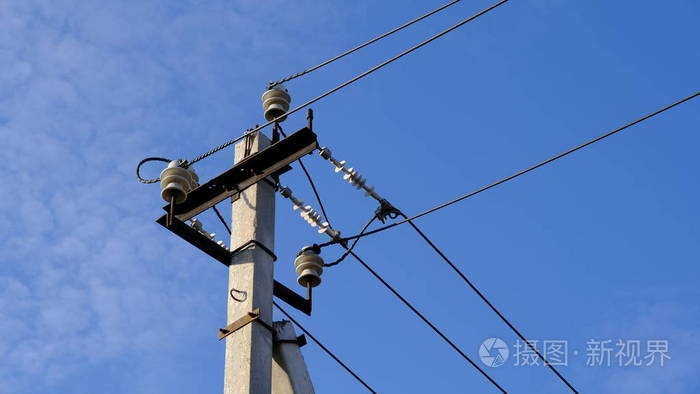insulator: (291, 196, 333, 236), (336, 160, 375, 198), (159, 167, 193, 201), (293, 253, 326, 285), (263, 88, 293, 111)
